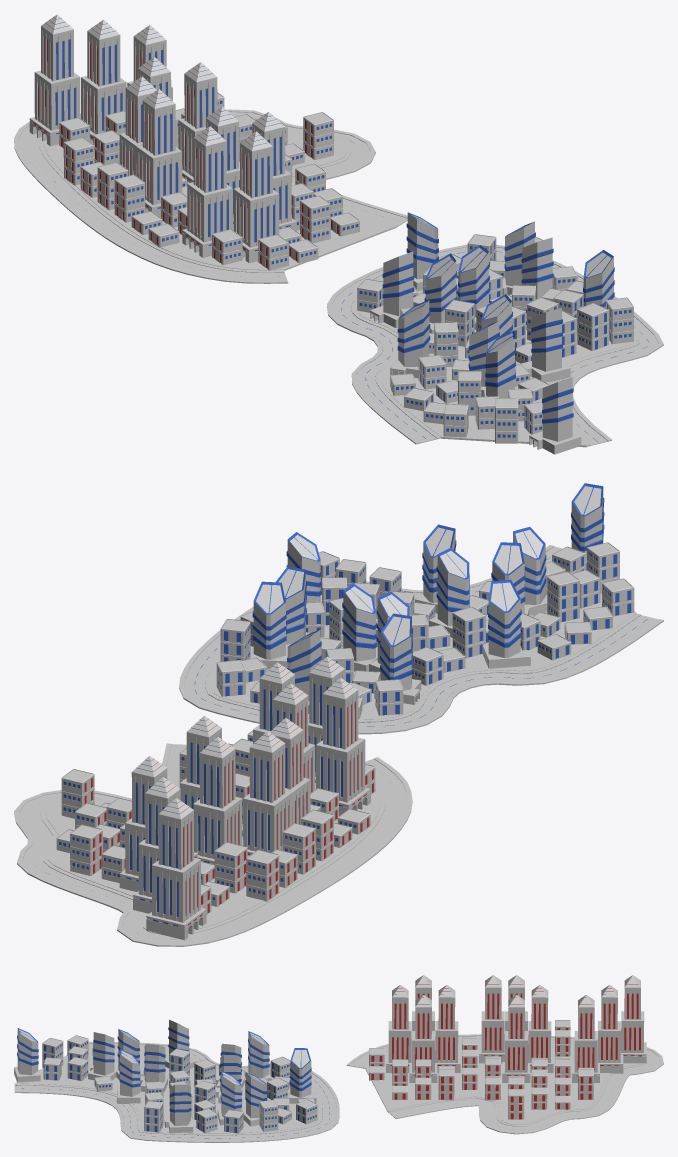
File: TronCitys.fbx
The picture shows the model from 3 angles, top to bottom: view 1: azimuth 30°, elevation 25°; view 2: azimuth 150°, elevation 25°; view 3: azimuth 270°, elevation 25°; orthographic projection. The views are drawn at different scales.
Visible parts, largest first — view 1: Cube.018, Cube.017, Cube.094, Cube.085, Cube.096, Cube.088, Cube.105, Cube.019, Cube.113, Cube.008, Cube.027, Cube.051 (+37 smaller); view 2: Cube.018, Cube.017, Cube.094, Cube.085, Cube.089, Cube.102, Cube.008, Cube.019, Cube.025, Cube.071, Cube.105, Cube.116 (+37 smaller); view 3: Cube.017, Cube.018, Cube.019, Cube.008, Cube.094, Cube.105, Cube.113, Cube.088, Cube.098, Cube.116, Cube.096, Cube.102 (+45 smaller).
Boxes of the visible parts, left/top/right/bottom form: Cube.018: left=14, top=109, right=407, bottom=283; Cube.017: left=327, top=244, right=663, bottom=446; Cube.094: left=29, top=14, right=80, bottom=146; Cube.085: left=182, top=126, right=232, bottom=257; Cube.096: left=233, top=131, right=279, bottom=263; Cube.088: left=136, top=89, right=182, bottom=217; Cube.105: left=81, top=19, right=126, bottom=142; Cube.019: left=43, top=137, right=395, bottom=270; Cube.113: left=178, top=62, right=217, bottom=183; Cube.008: left=356, top=257, right=634, bottom=447; Cube.027: left=529, top=377, right=581, bottom=454; Cube.051: left=519, top=308, right=570, bottom=382; Cube.018: left=14, top=743, right=412, bottom=946; Cube.017: left=179, top=545, right=663, bottom=734; Cube.094: left=146, top=798, right=206, bottom=940; Cube.085: left=316, top=678, right=370, bottom=815; Cube.089: left=243, top=731, right=292, bottom=855; Cube.102: left=193, top=737, right=242, bottom=864; Cube.008: left=210, top=593, right=636, bottom=719; Cube.019: left=45, top=784, right=380, bottom=930; Cube.025: left=482, top=579, right=530, bottom=668; Cube.071: left=250, top=581, right=288, bottom=669; Cube.105: left=133, top=777, right=180, bottom=913; Cube.116: left=119, top=756, right=167, bottom=891; Cube.017: left=14, top=1041, right=339, bottom=1142; Cube.018: left=346, top=1034, right=663, bottom=1134; Cube.019: left=365, top=1042, right=641, bottom=1124; Cube.008: left=15, top=1050, right=319, bottom=1133; Cube.094: left=620, top=975, right=646, bottom=1063; Cube.105: left=597, top=985, right=623, bottom=1073; Cube.113: left=502, top=995, right=530, bottom=1082; Cube.088: left=479, top=975, right=504, bottom=1063; Cube.098: left=435, top=985, right=460, bottom=1072; Cube.116: left=572, top=995, right=599, bottom=1082; Cube.096: left=386, top=985, right=411, bottom=1072; Cube.102: left=528, top=985, right=553, bottom=1072.
Size of the model in its own units: 9379 by 23903 by 3391.
